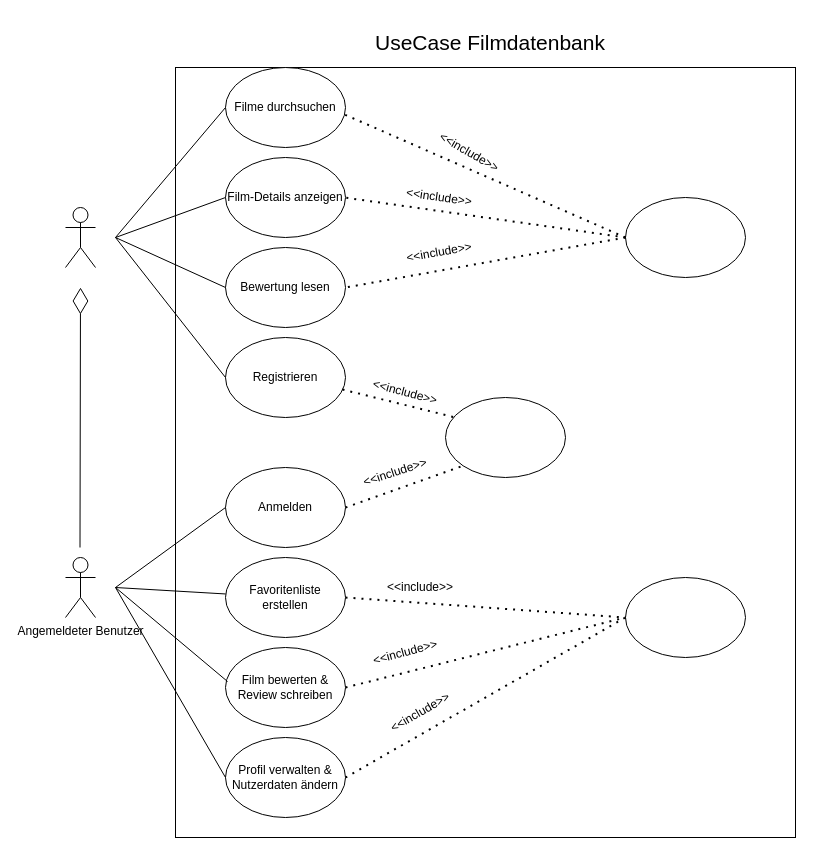
Some shapes in this 813 by 855 pixel diagram are drawn without their labels. The shapes that lost their labels are listed below. From the top down, each one's centre as x and y in pixels, then its label:
At [80,237]: "Gastbenutzer".
At [685,237]: "Get von Datenbank".
At [505,437]: "Anmeldedaten überprüfen".
At [685,617]: "Post in Datenbank".
